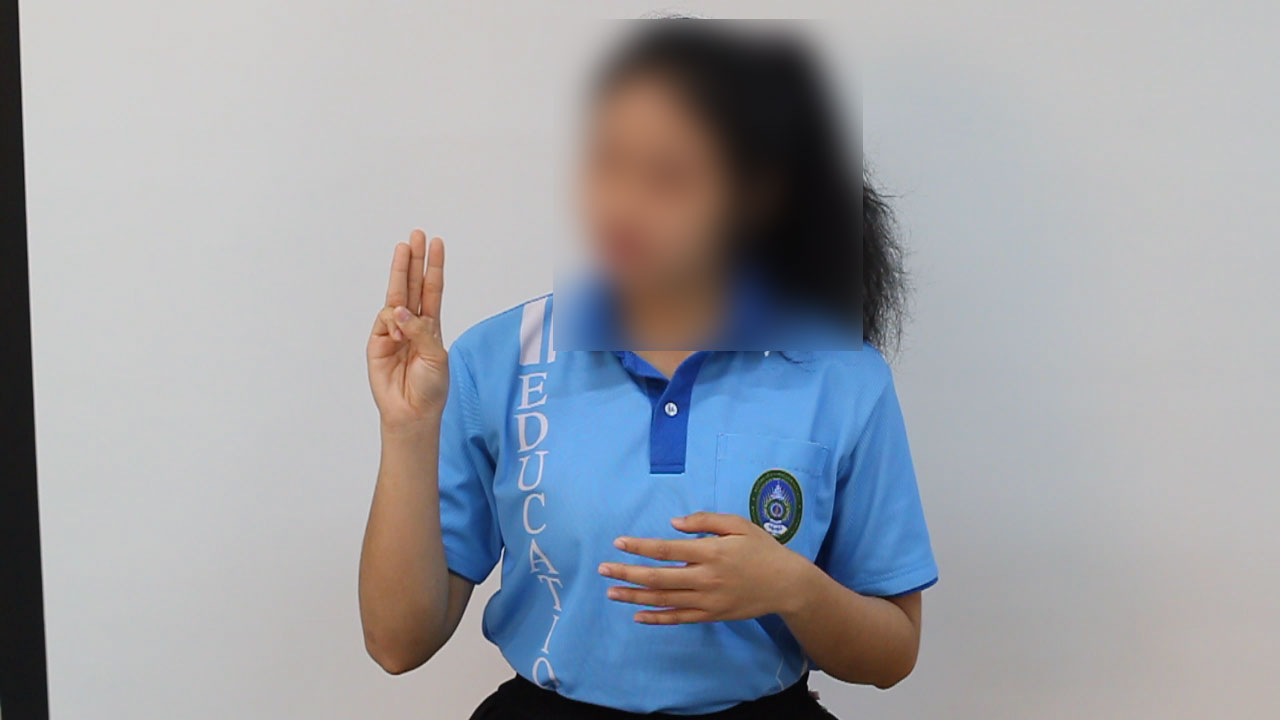wor: (358, 221, 455, 442)
